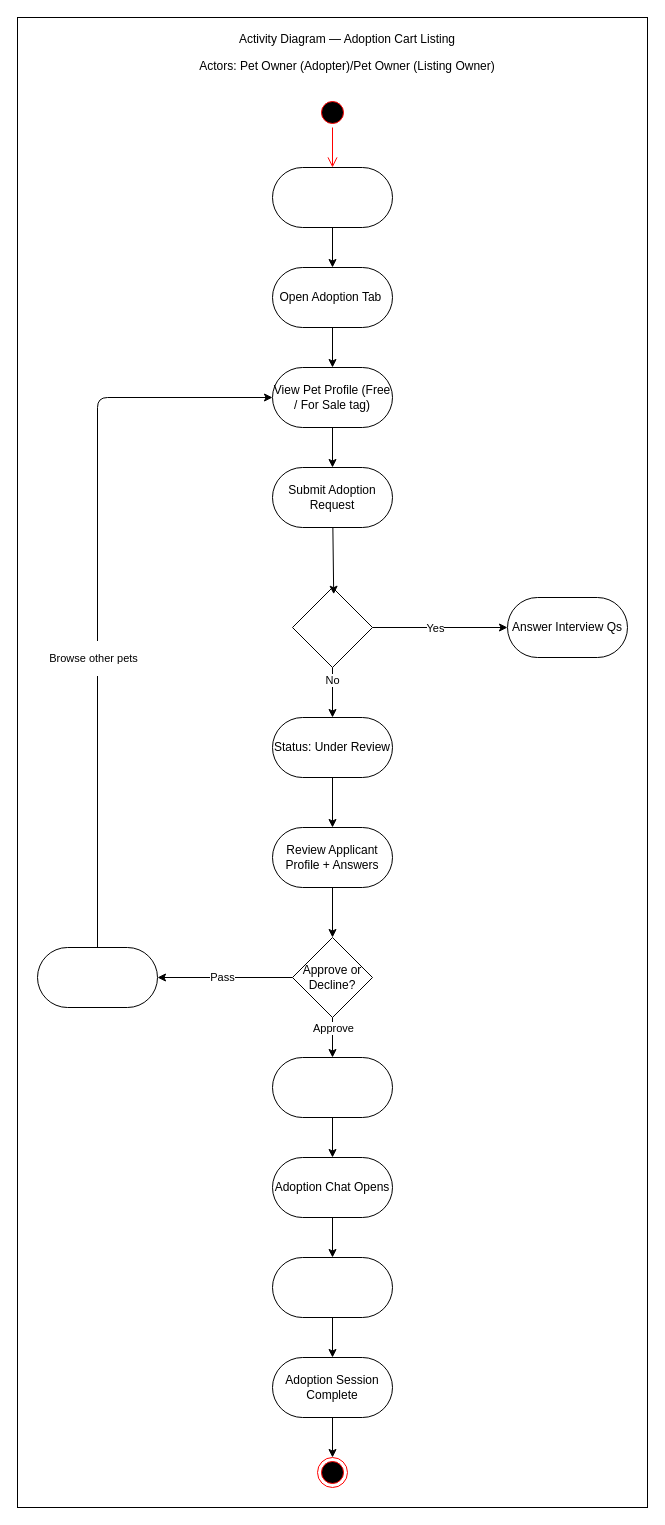
The diagram is 665 pixels wide and 1525 high, and some of its shapes have lost their labels. The centre of each missing label's shape, as x and y in pixels:
Chat Unlocked (Adopter and Owner Connected): point 332,1087
Interview Required?: point 332,627
Manage Pet Listings: point 332,197
Notify Adopter (Declined): point 97,977
Send Price Offer (if For Sale listing): point 332,1287
